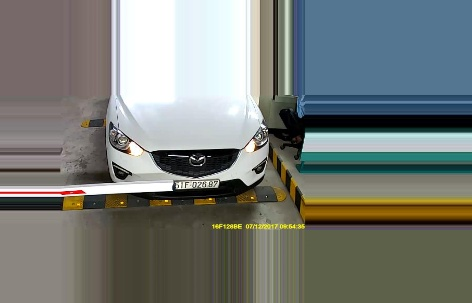plate: (172, 178, 222, 190)
